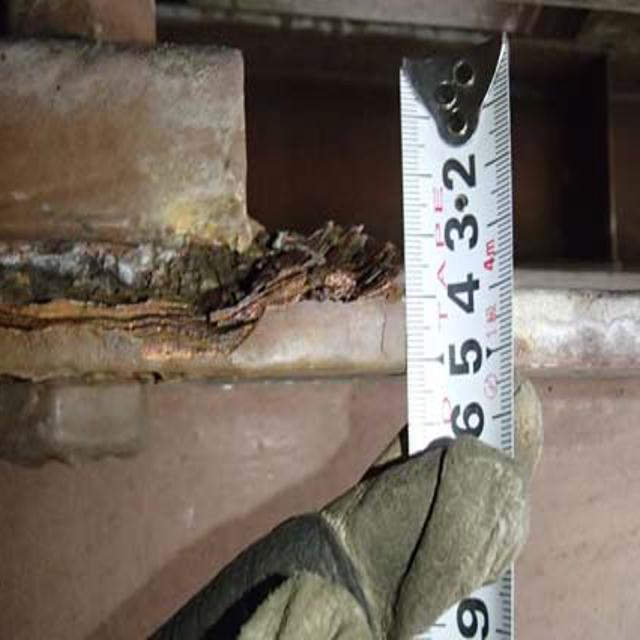corrosion: (8, 163, 383, 368)
